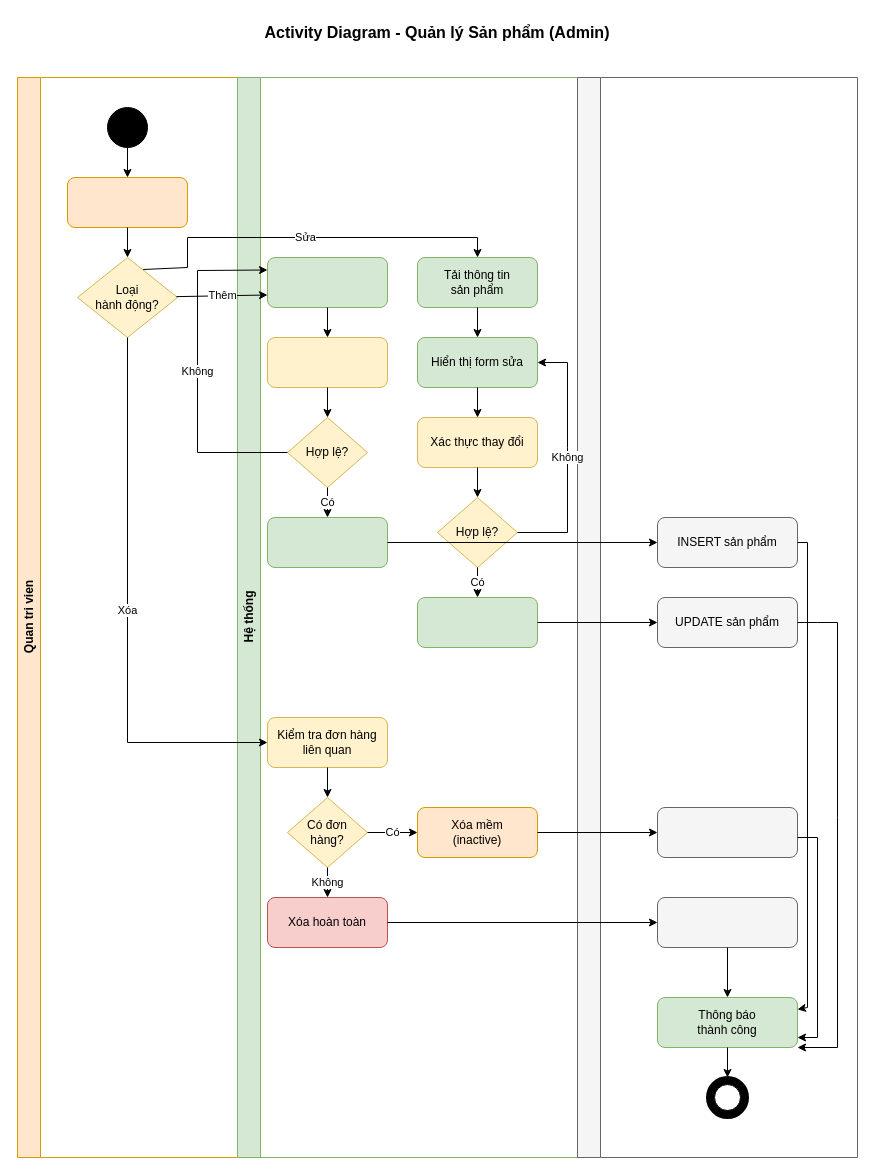
Image size: 875x1175. Some labels were removed from this diagram. The box of each missing label's shape, as (x1, y1, x2, y2) in pixels:
Chọn hành động (Thêm/Sửa/Xóa): (66, 176, 188, 228)
Cập nhật DB: (416, 596, 538, 648)
Database: (576, 76, 858, 1158)
DELETE sản phẩm: (656, 896, 798, 948)
Hiển thị form thêm sản phẩm: (266, 256, 388, 308)
Lưu sản phẩm: (266, 516, 388, 568)
UPDATE active = false: (656, 806, 798, 858)
Xác thực dữ liệu: (266, 336, 388, 388)
